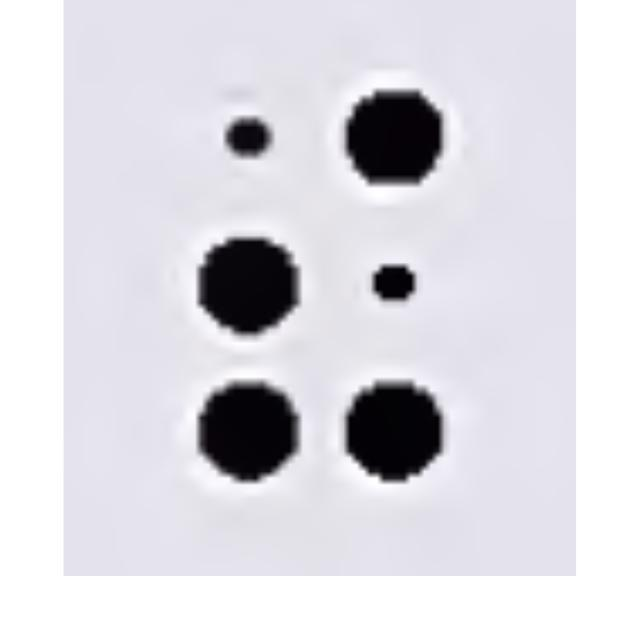one_cell_part_word_ang: (195, 89, 444, 484)
